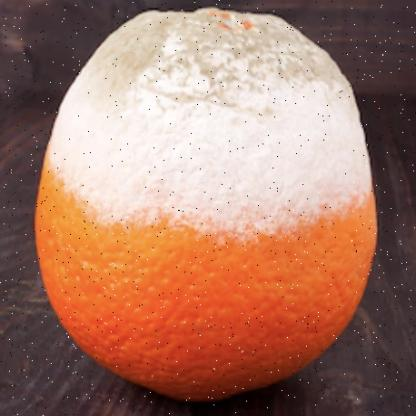rotten: (38, 10, 378, 399)
